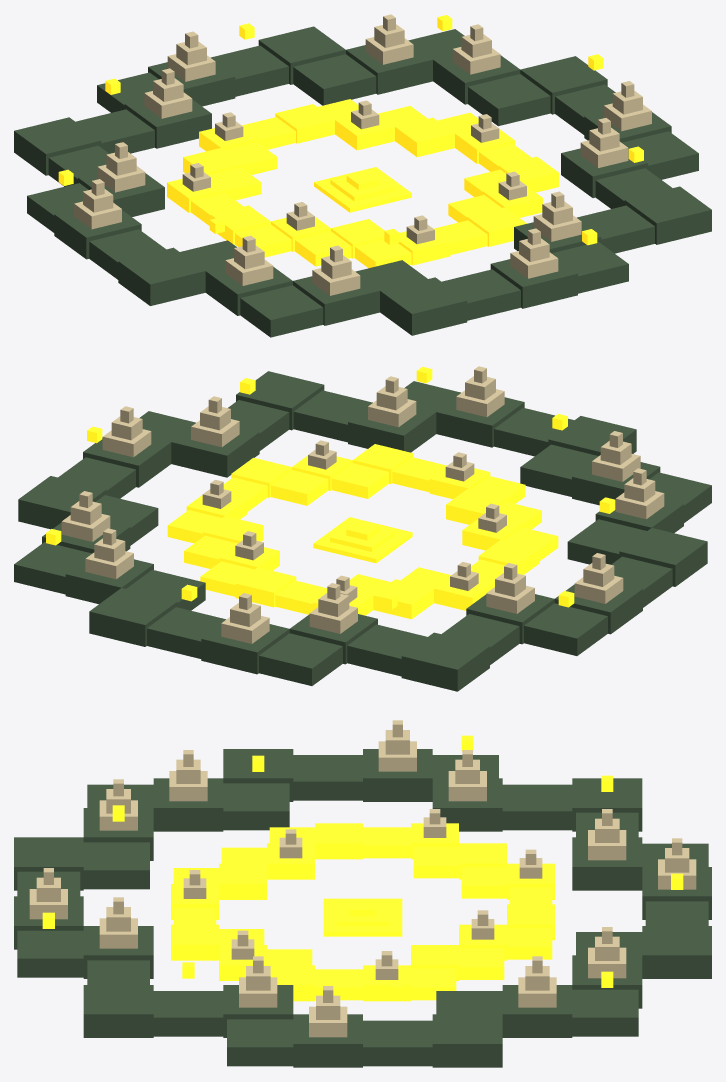
The model's file is fx_pet_bramble_howl.glb.
3 views of the same model, one above another, from view 1: azimuth 30°, elevation 25°; view 2: azimuth 150°, elevation 25°; view 3: azimuth 270°, elevation 25° (orthographic). The views are drawn at different scales.
Parts seen in each view (by area): view 1: outer_block_29, outer_block_35, outer_block_23, outer_block_32, outer_block_12, outer_block_16, outer_block_5, flash, outer_block_28, outer_block_10, outer_block_26, outer_block_24 (+77 smaller); view 2: outer_block_5, outer_block_11, outer_block_8, outer_block_2, outer_block_35, outer_block_21, flash, outer_block_17, outer_block_25, outer_block_6, outer_block_24, outer_block_10 (+75 smaller); view 3: outer_block_17, outer_block_23, outer_block_11, outer_block_4, outer_block_18, outer_block_22, outer_block_36, outer_block_14, outer_block_26, outer_block_20, outer_block_30, outer_block_34 (+69 smaller).
Part boxes in pixels (x1=…): outer_block_29: x1=380, y1=277, x2=467, y2=335; outer_block_35: x1=118, y1=247, x2=205, y2=305; outer_block_23: x1=624, y1=186, x2=711, y2=244; outer_block_32: x1=240, y1=285, x2=323, y2=337; outer_block_12: x1=293, y1=54, x2=376, y2=105; outer_block_16: x1=468, y1=74, x2=550, y2=126; outer_block_5: x1=14, y1=117, x2=101, y2=175; flash: x1=314, y1=167, x2=411, y2=212; outer_block_28: x1=442, y1=269, x2=520, y2=320; outer_block_10: x1=210, y1=45, x2=288, y2=96; outer_block_26: x1=552, y1=242, x2=628, y2=293; outer_block_24: x1=577, y1=205, x2=654, y2=253; outer_block_5: x1=401, y1=632, x2=489, y2=691; outer_block_11: x1=89, y1=588, x2=177, y2=646; outer_block_8: x1=259, y1=633, x2=342, y2=685; outer_block_2: x1=524, y1=603, x2=607, y2=655; outer_block_35: x1=619, y1=528, x2=707, y2=586; outer_block_21: x1=171, y1=427, x2=259, y2=477; flash: x1=313, y1=517, x2=412, y2=563; outer_block_17: x1=18, y1=476, x2=106, y2=529; outer_block_25: x1=348, y1=407, x2=436, y2=452; outer_block_6: x1=347, y1=624, x2=427, y2=676; outer_block_24: x1=293, y1=390, x2=372, y2=442; outer_block_10: x1=147, y1=607, x2=225, y2=658; outer_block_17: x1=432, y1=1014, x2=502, y2=1067; outer_block_23: x1=83, y1=985, x2=153, y2=1037; outer_block_11: x1=642, y1=926, x2=711, y2=978; outer_block_4: x1=502, y1=784, x2=572, y2=830; outer_block_18: x1=363, y1=1020, x2=432, y2=1066; outer_block_22: x1=153, y1=991, x2=223, y2=1036; outer_block_36: x1=293, y1=755, x2=362, y2=800; outer_block_14: x1=572, y1=989, x2=638, y2=1036; outer_block_26: x1=17, y1=930, x2=83, y2=977; outer_block_20: x1=227, y1=1019, x2=293, y2=1066; outer_block_30: x1=83, y1=842, x2=149, y2=889; outer_block_34: x1=223, y1=783, x2=289, y2=830.
Size of the model in its own units: 8 by 0.86 by 8.
